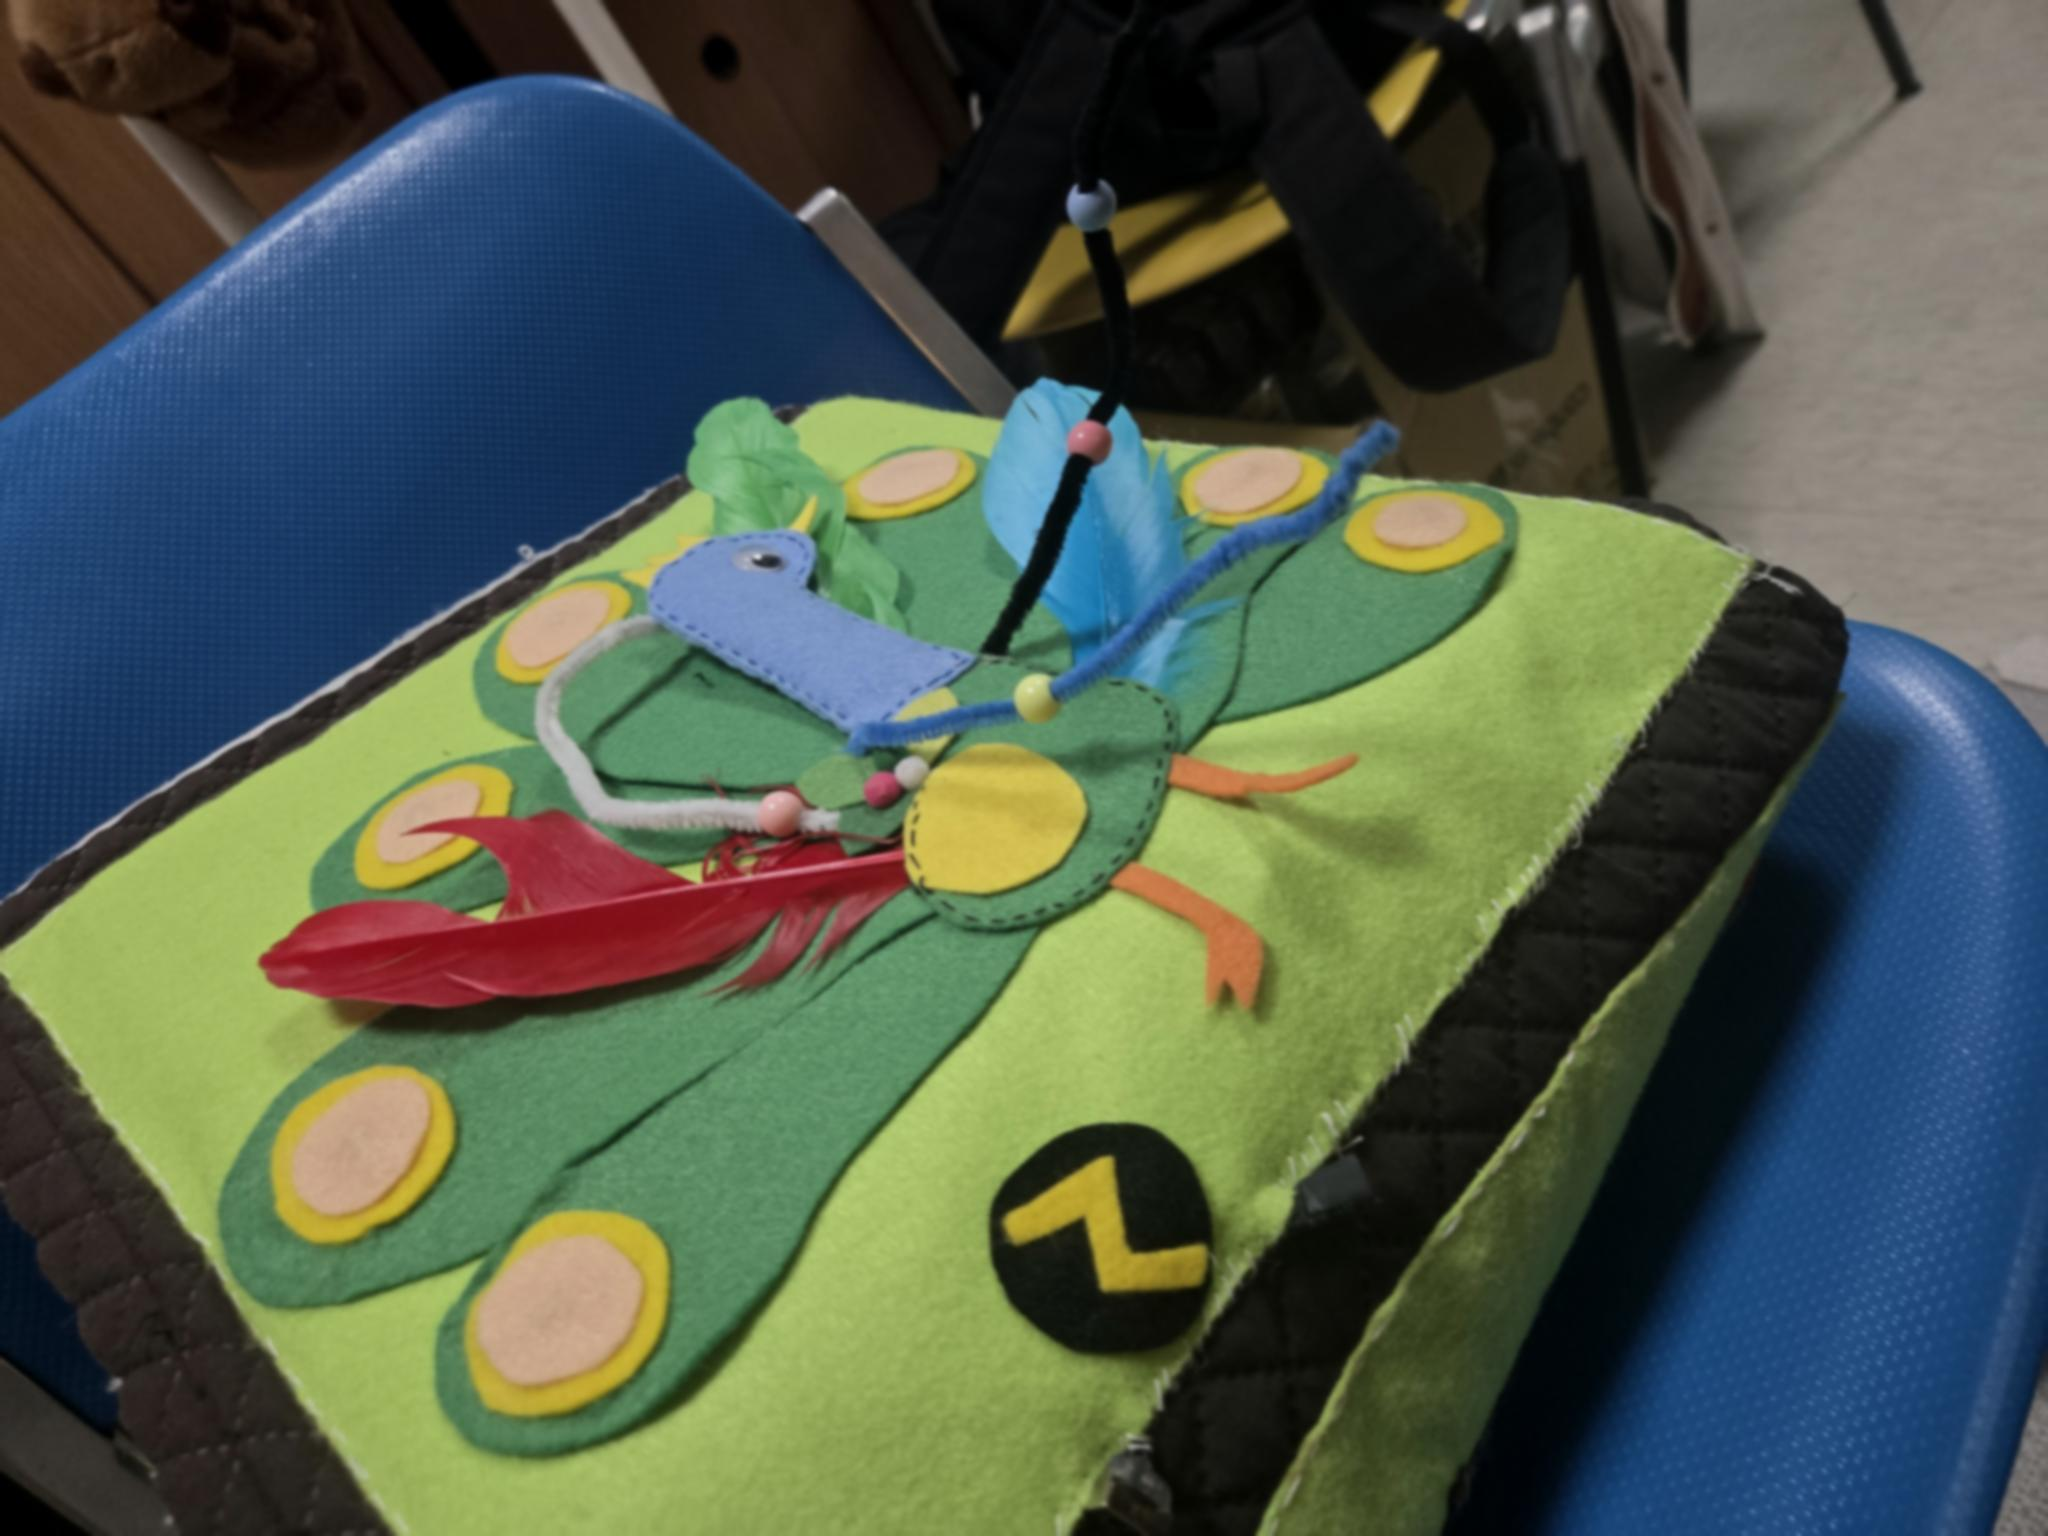bead: (751, 773, 819, 844), (1009, 653, 1064, 736), (1059, 169, 1119, 242), (1058, 405, 1116, 479)
